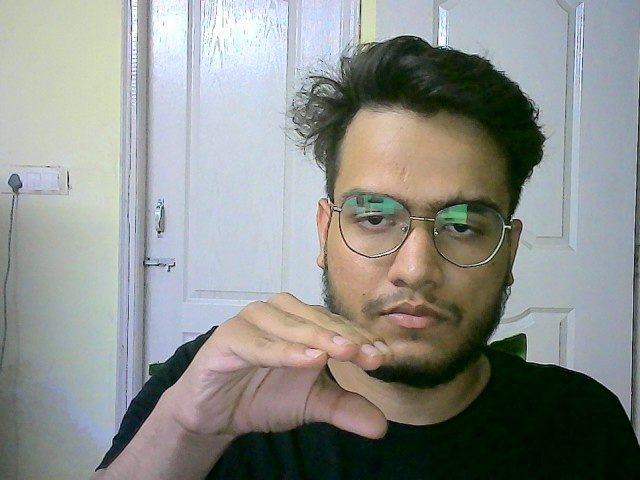No: (185, 287, 402, 452)
